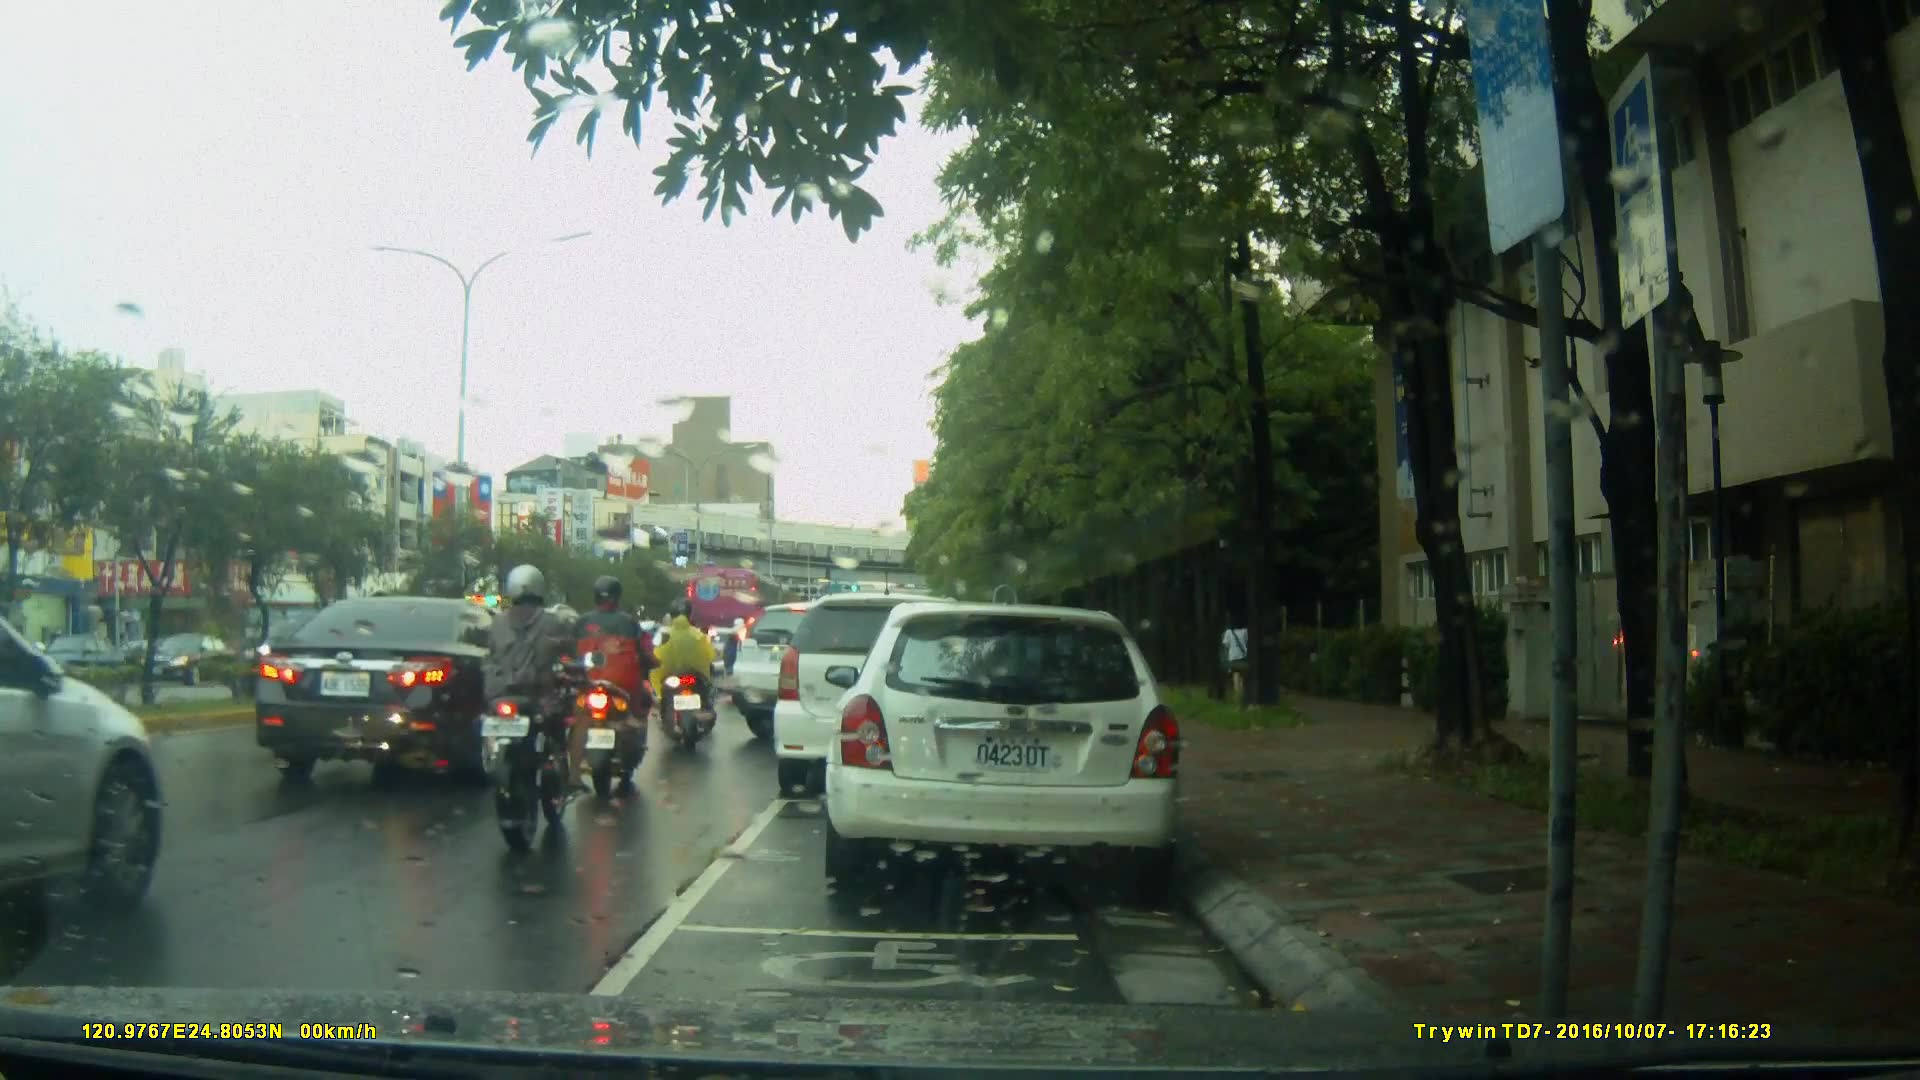pedestrian: (1220, 610, 1258, 710)
rider: (474, 567, 593, 857), (563, 571, 668, 794), (646, 605, 719, 754), (670, 601, 719, 734)
vehicle: (835, 594, 1194, 898), (2, 553, 171, 947), (251, 594, 582, 792), (776, 590, 1026, 784), (731, 599, 960, 742), (683, 567, 785, 645), (22, 631, 130, 688), (130, 633, 245, 686)
